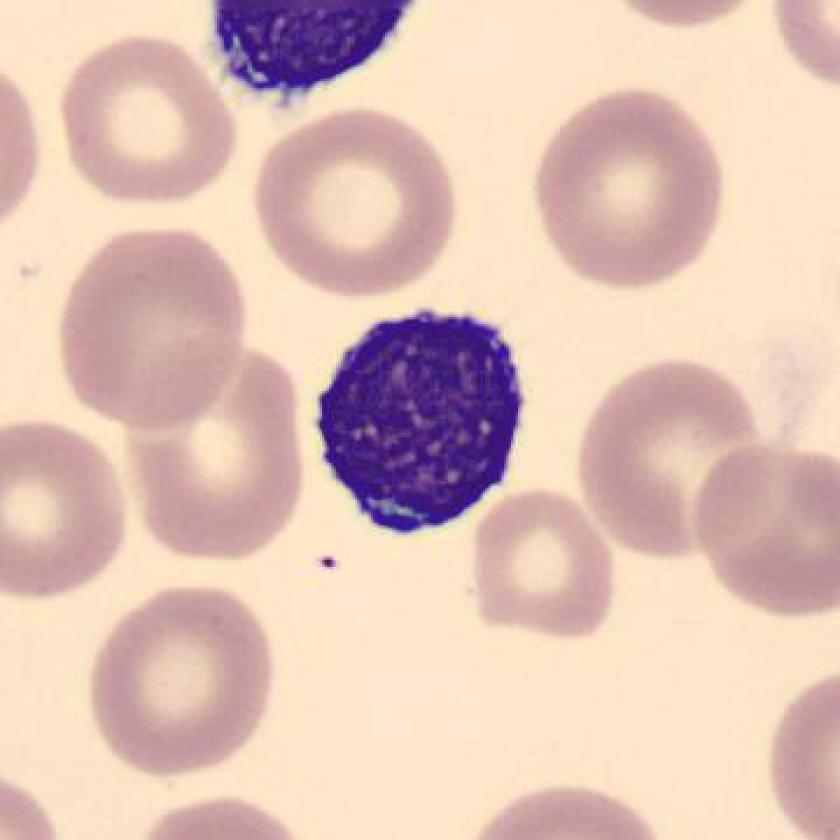lymphocyte: (293, 293, 542, 547), (205, 1, 422, 118)
